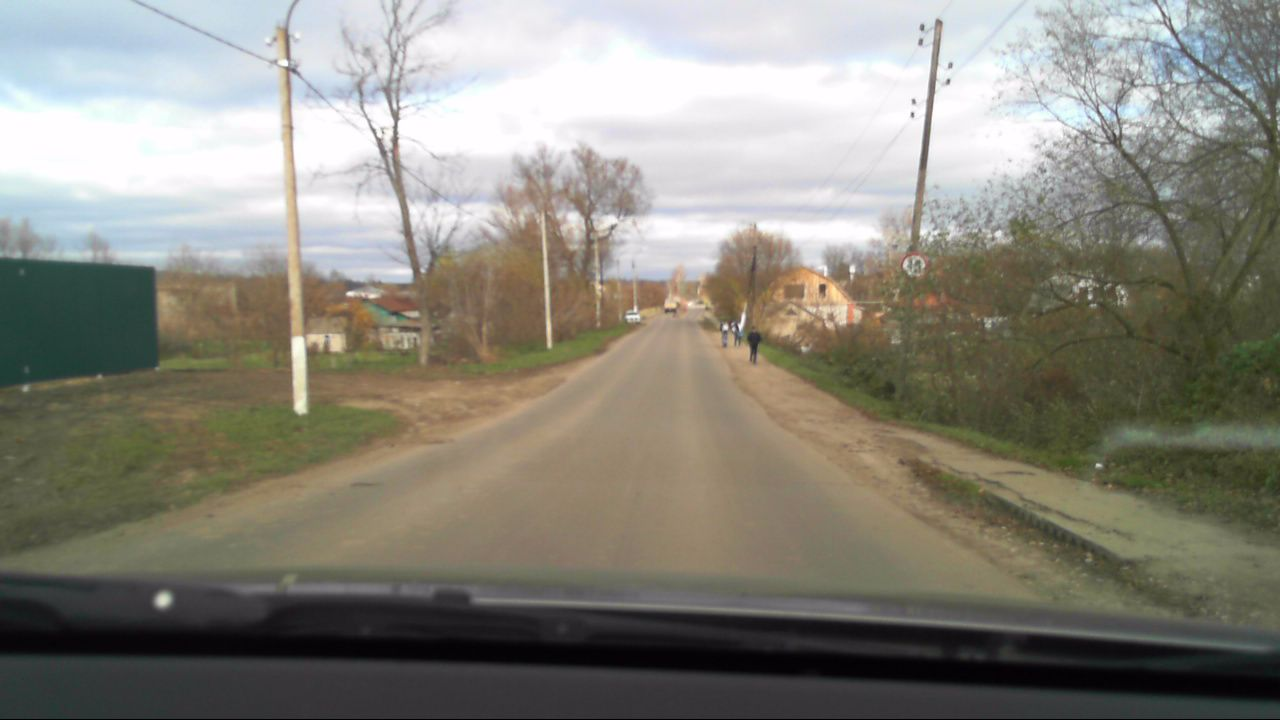speed_warning_40: (901, 255, 925, 279)
